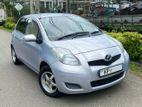car: (9, 13, 130, 102)
